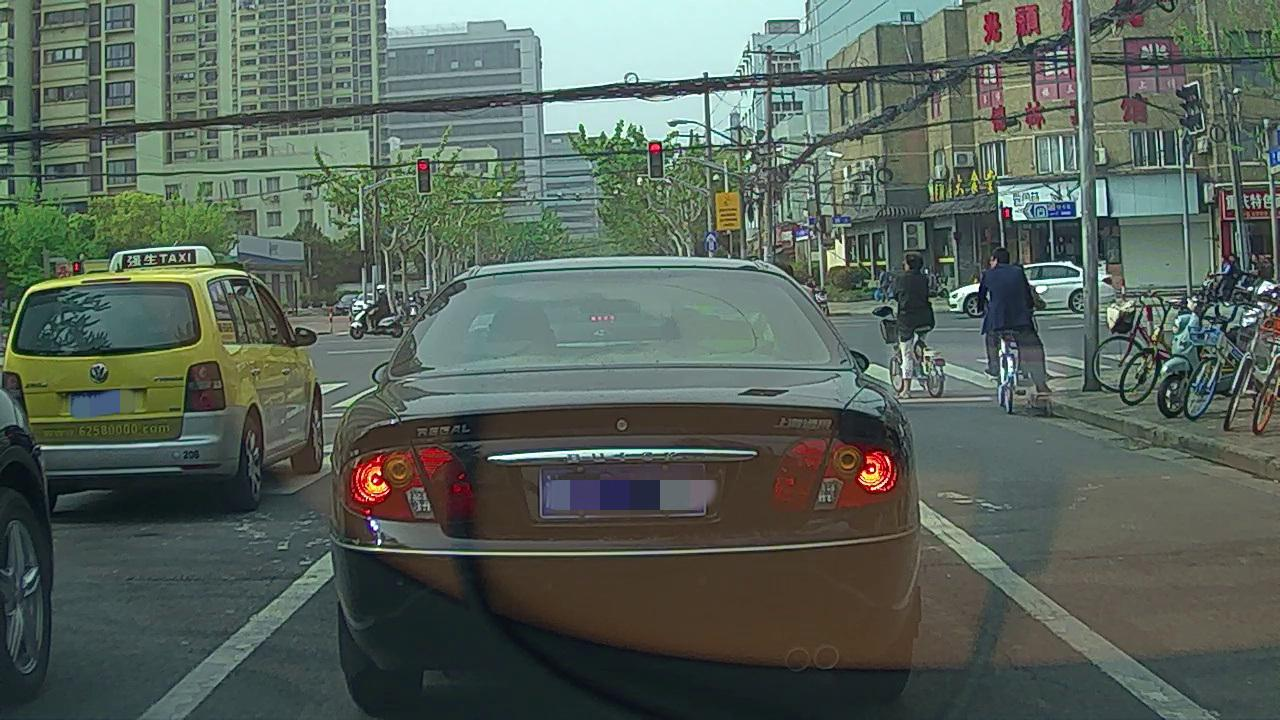traffic_light: (648, 142, 662, 179), (418, 158, 430, 193)
